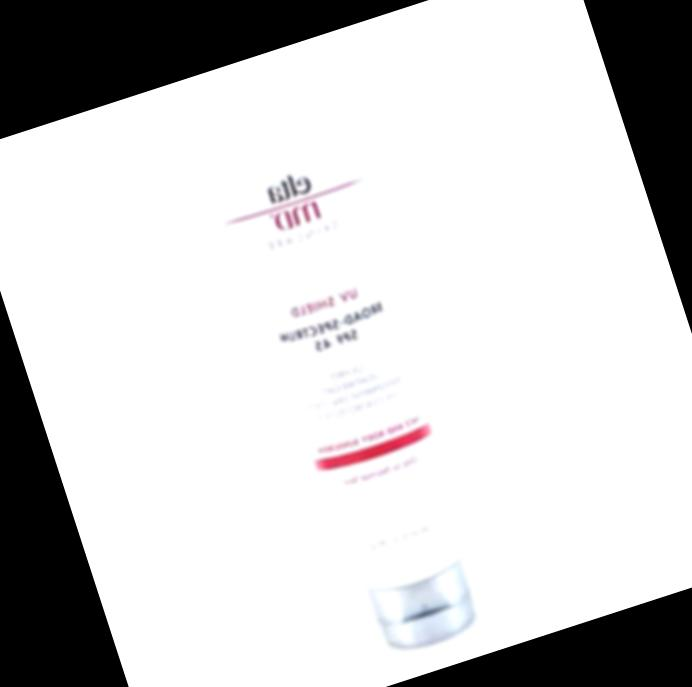cosmetic: (168, 65, 524, 673)
